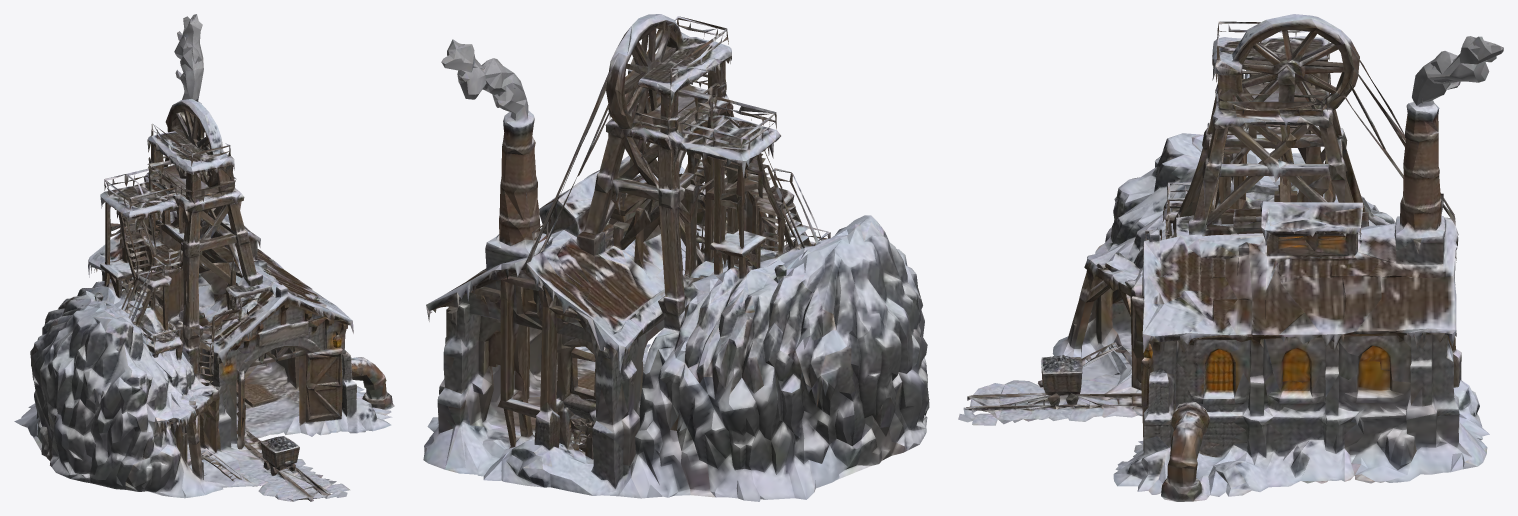
Rendered from mine.glb.
The picture shows the model from 3 angles, left to right: view 1: azimuth 30°, elevation 25°; view 2: azimuth 150°, elevation 25°; view 3: azimuth 270°, elevation 25°; orthographic projection. The views are drawn at different scales.
Visible parts, largest first — view 1: Mesh_0; view 2: Mesh_0; view 3: Mesh_0.
Boxes of the visible parts, left/top/right/bottom form: Mesh_0: left=14, top=14, right=394, bottom=501; Mesh_0: left=423, top=14, right=929, bottom=501; Mesh_0: left=958, top=14, right=1503, bottom=501.
Bounding box in the file's own units: 1.68 × 1.59 × 1.89.
Materials: 1 (1 with a texture image).
